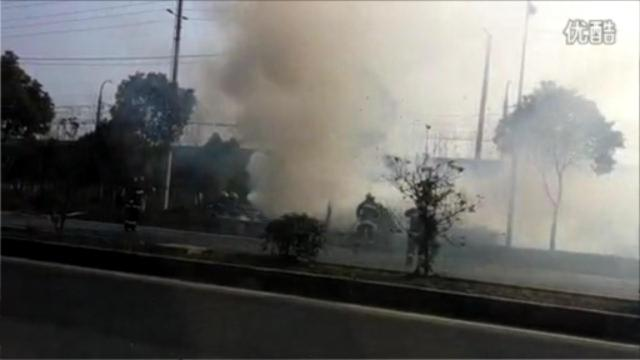smoke: (272, 49, 398, 153), (474, 174, 608, 244), (217, 2, 405, 48), (250, 153, 368, 215), (218, 51, 268, 147)
